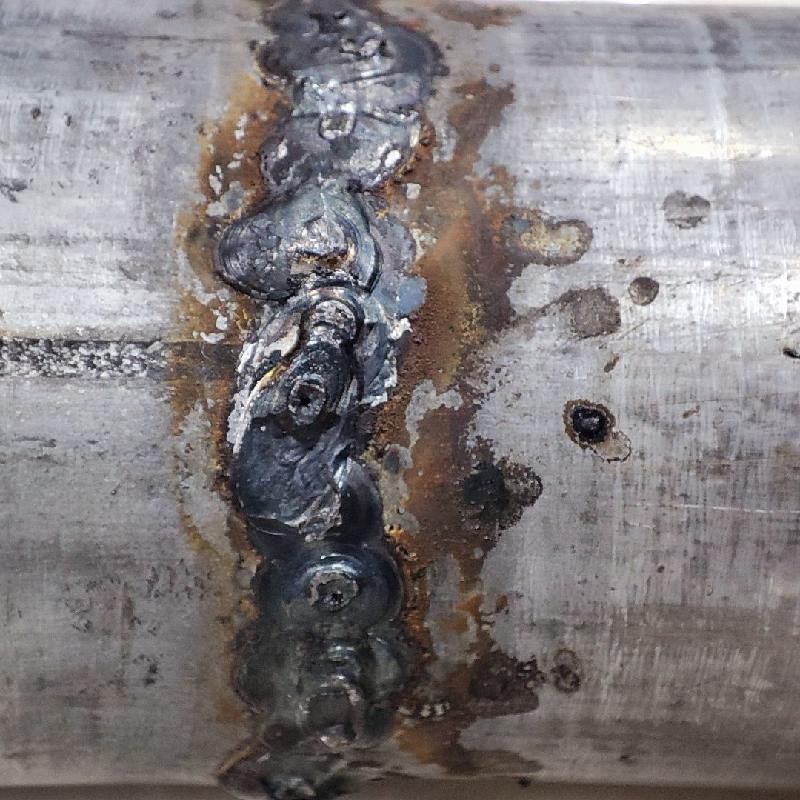Surface_pores: (277, 370, 335, 427), (308, 570, 363, 610)
wrong_size: (248, 0, 398, 781)
